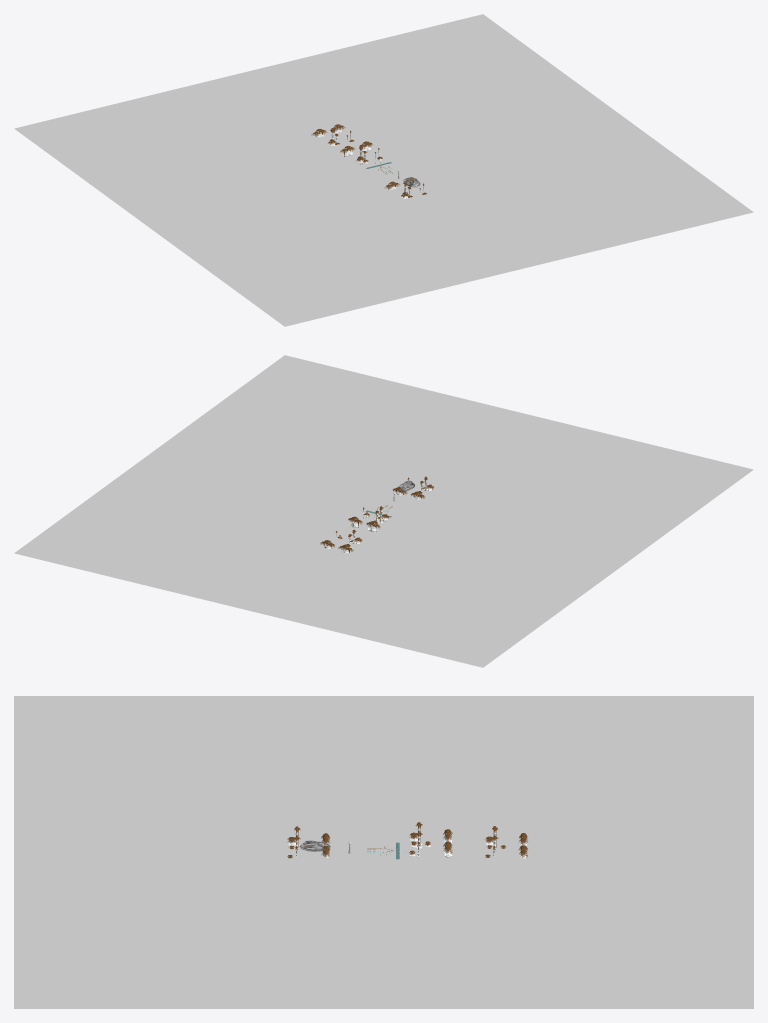
The model's file is Coordlux.gltf.
3 renders of one model, top to bottom at view 1: azimuth 30°, elevation 25°; view 2: azimuth 150°, elevation 25°; view 3: azimuth 270°, elevation 25°, orthographic. The views are drawn at different scales.
Parts seen in each view (by area): view 1: MeshInstance3D24, MeshInstance3D35; view 2: MeshInstance3D24, MeshInstance3D35; view 3: MeshInstance3D24, MeshInstance3D35.
Part boxes in pixels (x1,y1,x2,y2): MeshInstance3D24: (14,14,753,326); MeshInstance3D35: (310,138,457,200); MeshInstance3D24: (14,355,753,667); MeshInstance3D35: (310,479,457,541); MeshInstance3D24: (14,696,753,1008); MeshInstance3D35: (310,820,457,882).
Size of what is drawn, in the model's own units: 256915 by 21418 by 256915.
Materials: 99 (38 with a texture image).
